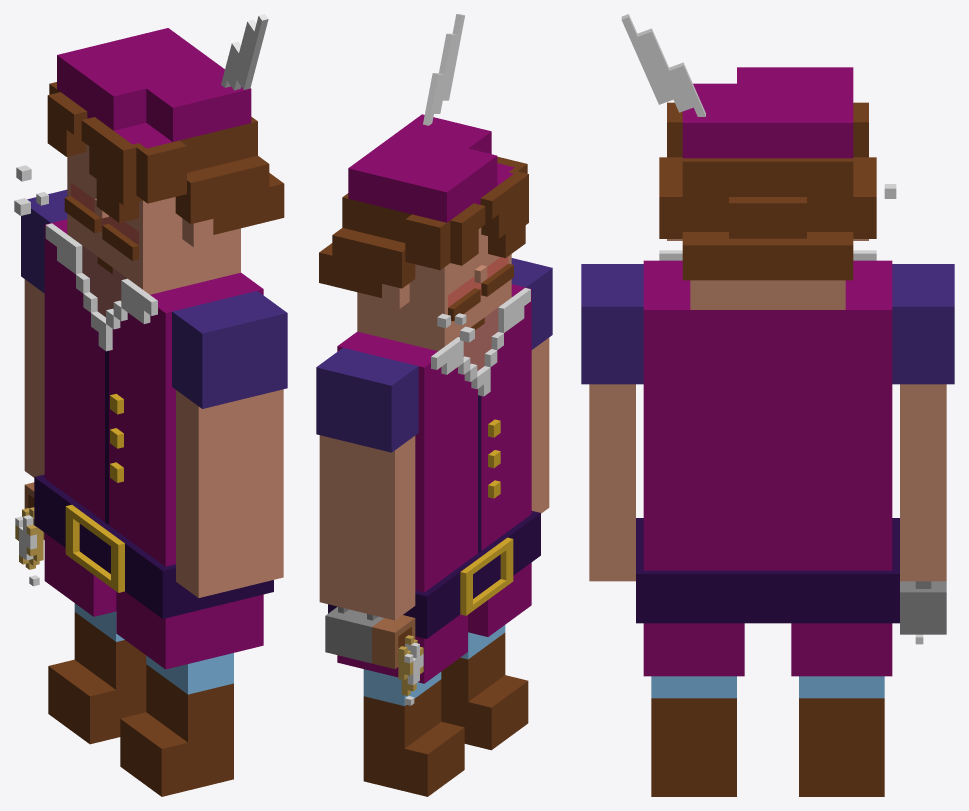
File: bardo fbx.fbx
3 views of the same model, side by side, from view 1: azimuth 30°, elevation 25°; view 2: azimuth 150°, elevation 25°; view 3: azimuth 270°, elevation 25° (orthographic). The views are drawn at different scales.
Visible parts, largest first — view 1: piuma; view 2: piuma; view 3: piuma.
Boxes of the visible parts, bbox=[...] form: piuma: bbox=[15, 14, 287, 796]; piuma: bbox=[316, 14, 552, 796]; piuma: bbox=[581, 14, 954, 796].
Size of the model in its own units: 272 by 1121 by 480.
